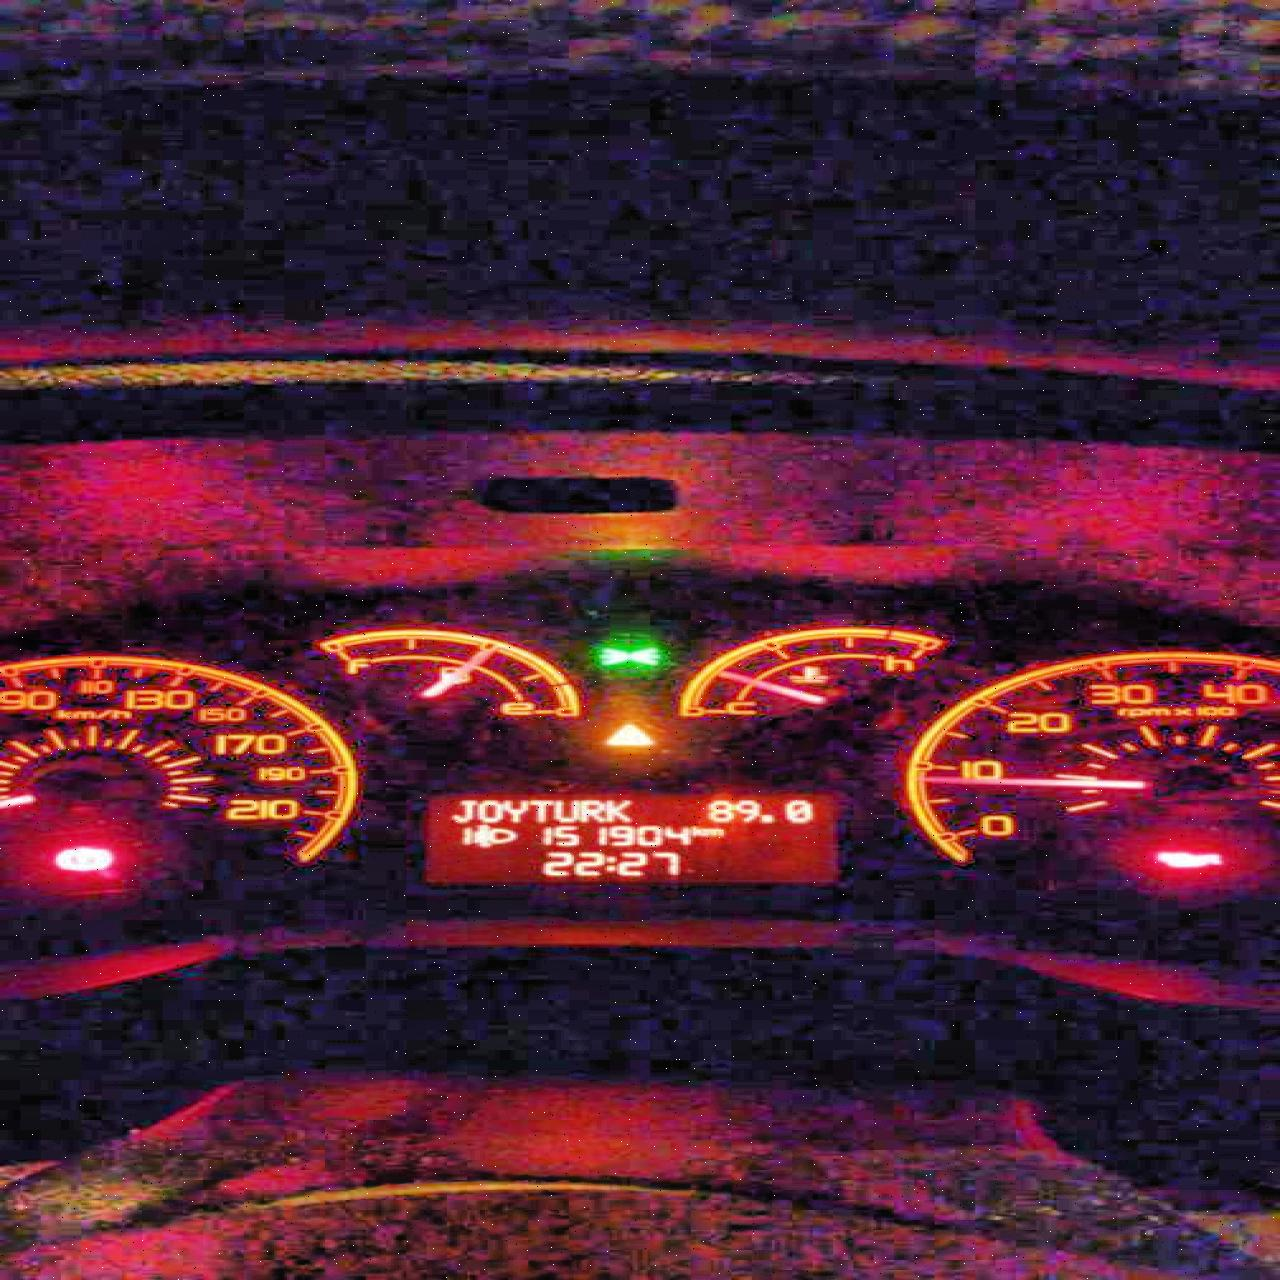-: (757, 812, 772, 823)
0: (779, 798, 812, 823), (635, 823, 660, 846)
1: (455, 825, 470, 845), (536, 825, 551, 845), (592, 824, 605, 845)
2: (573, 850, 605, 876), (538, 850, 568, 876), (614, 850, 645, 876)
4: (660, 824, 688, 845)
5: (551, 824, 579, 846)
7: (647, 849, 681, 874)
8: (703, 798, 731, 823)
9: (731, 797, 757, 823), (607, 824, 632, 846)
X: (601, 798, 632, 823), (447, 797, 475, 823), (551, 797, 577, 823), (475, 798, 501, 823), (526, 798, 551, 823), (577, 798, 601, 823), (503, 798, 526, 823), (602, 853, 614, 872), (703, 826, 722, 836), (690, 824, 703, 836)
odometer: (414, 789, 843, 886)
